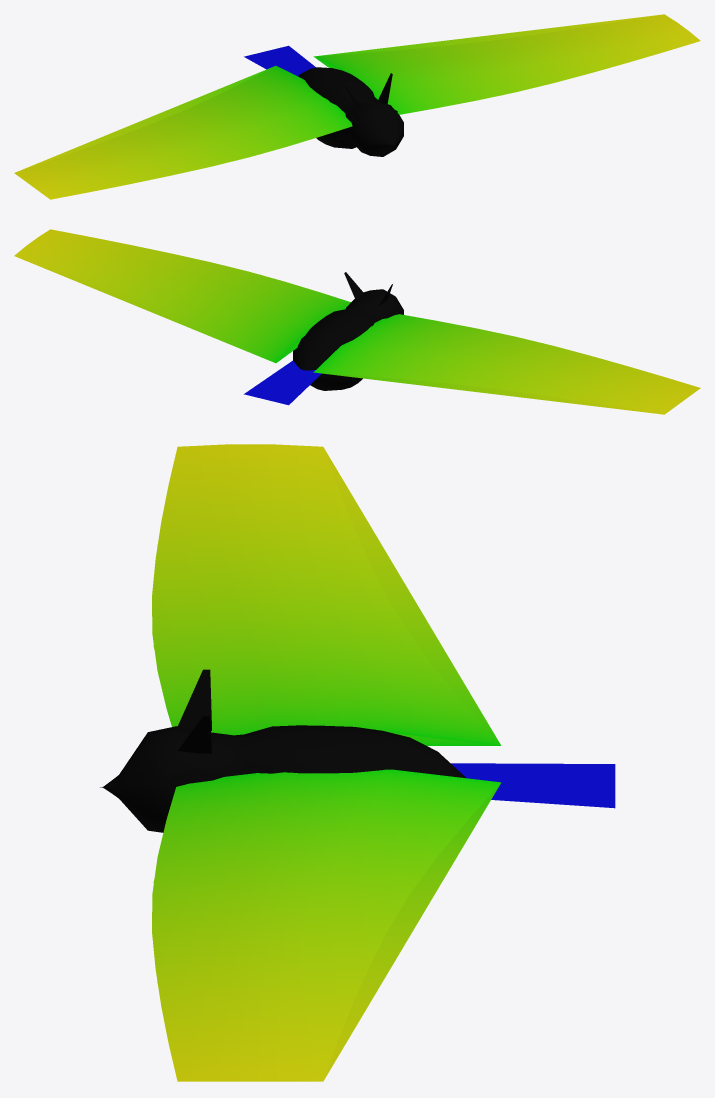
The model's file is bat.glb.
3 renders of one model, top to bottom at view 1: azimuth 30°, elevation 25°; view 2: azimuth 150°, elevation 25°; view 3: azimuth 270°, elevation 25°, orthographic. The views are drawn at different scales.
Visible parts, largest first — view 1: fly0, fly2, fly1; view 2: fly0, fly2, fly1; view 3: fly0, fly2, fly1.
Boxes of the visible parts, left/top/right/bottom form: fly0: left=14, top=14, right=700, bottom=199; fly2: left=16, top=14, right=660, bottom=194; fly1: left=16, top=19, right=630, bottom=198; fly0: left=14, top=229, right=700, bottom=414; fly2: left=17, top=257, right=695, bottom=414; fly1: left=29, top=261, right=697, bottom=413; fly0: left=103, top=444, right=501, bottom=1081; fly2: left=100, top=448, right=615, bottom=1081; fly1: left=103, top=454, right=500, bottom=1081.
Size of the model in its own units: 0.23 by 0.0284 by 0.079.
